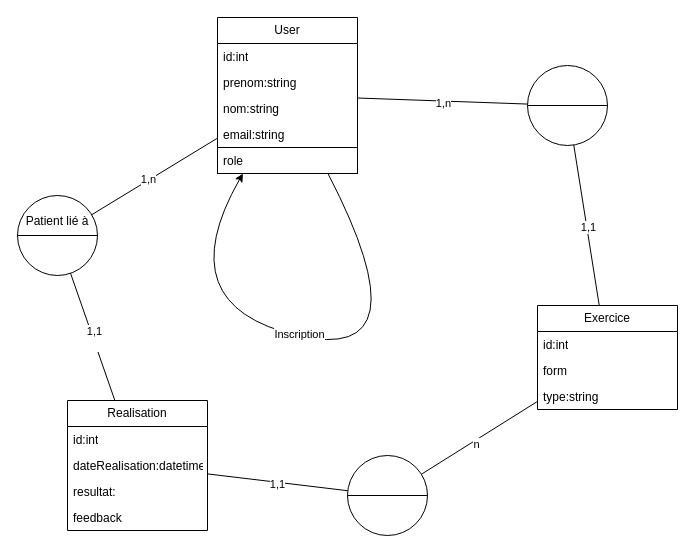
Image size: 695x553. Some labels were removed from this diagram. The centre of each missing label's shape, as x and y in pixels:
"Correspond" goes at (387,495).
"Crée et consulte" goes at (567,105).
